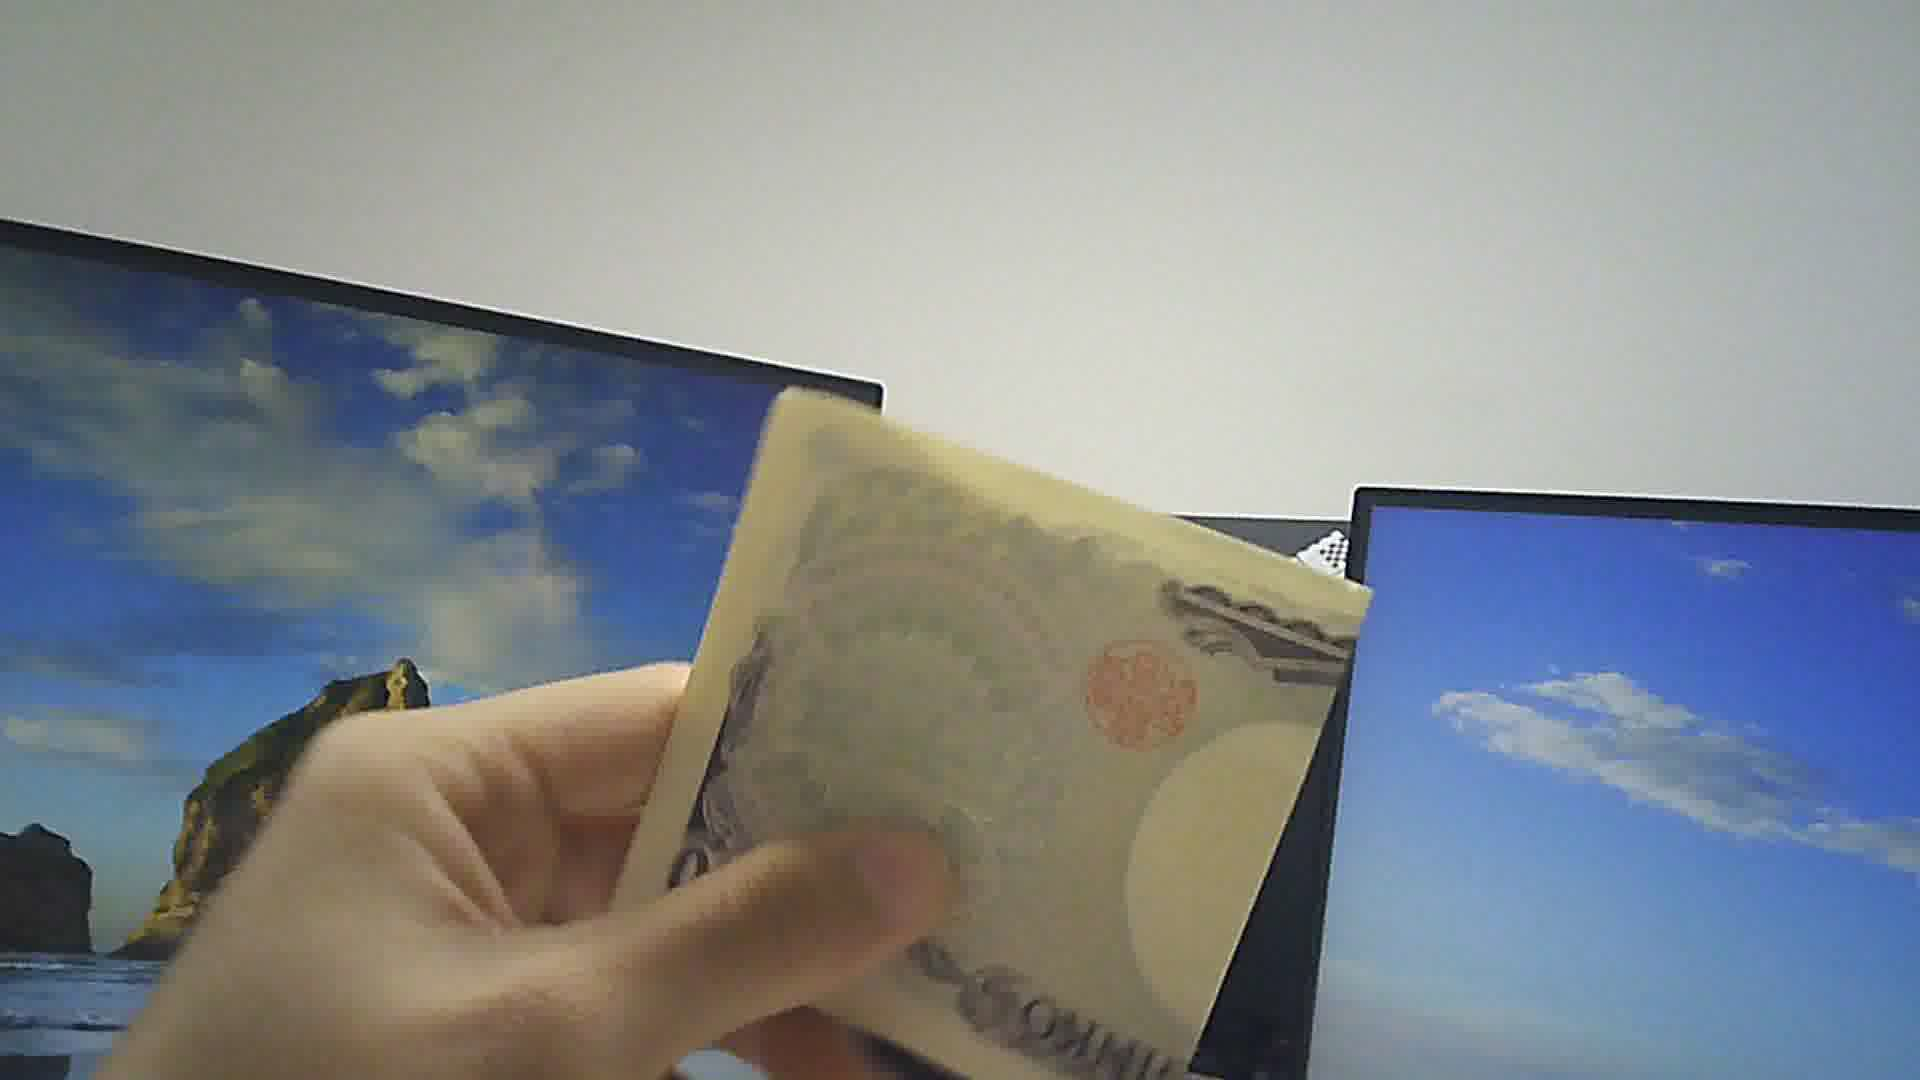5,000 Yen: (632, 386, 1366, 1079)
